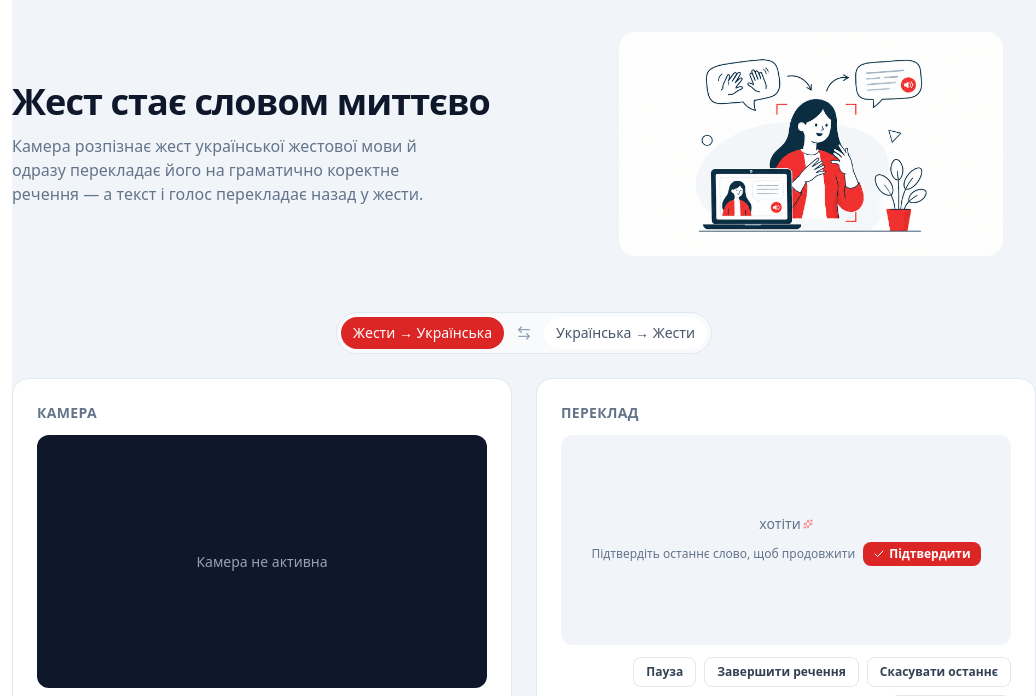
Test: TranslatorView › a confirmed word with real ranked alternatives shows a correction popover, and picking one replaces the wrong saved word
Click the button with aria-label "Виправити слово «хотіти»". click: (786, 524)
box: [757,514,815,534]
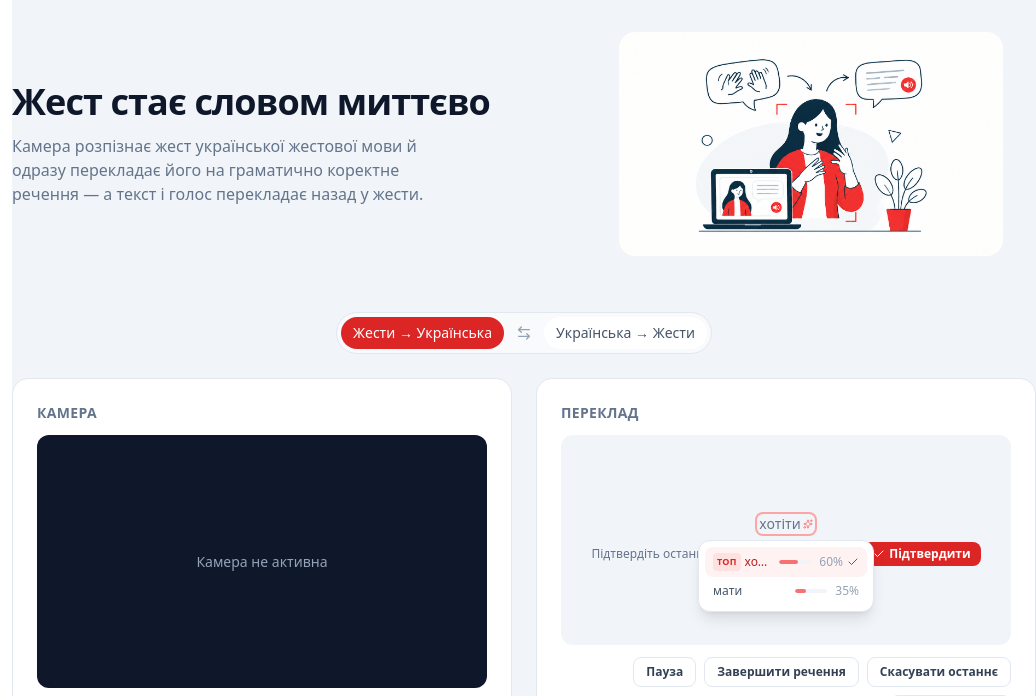
Click the option "мати 35%". click: (786, 591)
box: [705,577,867,605]
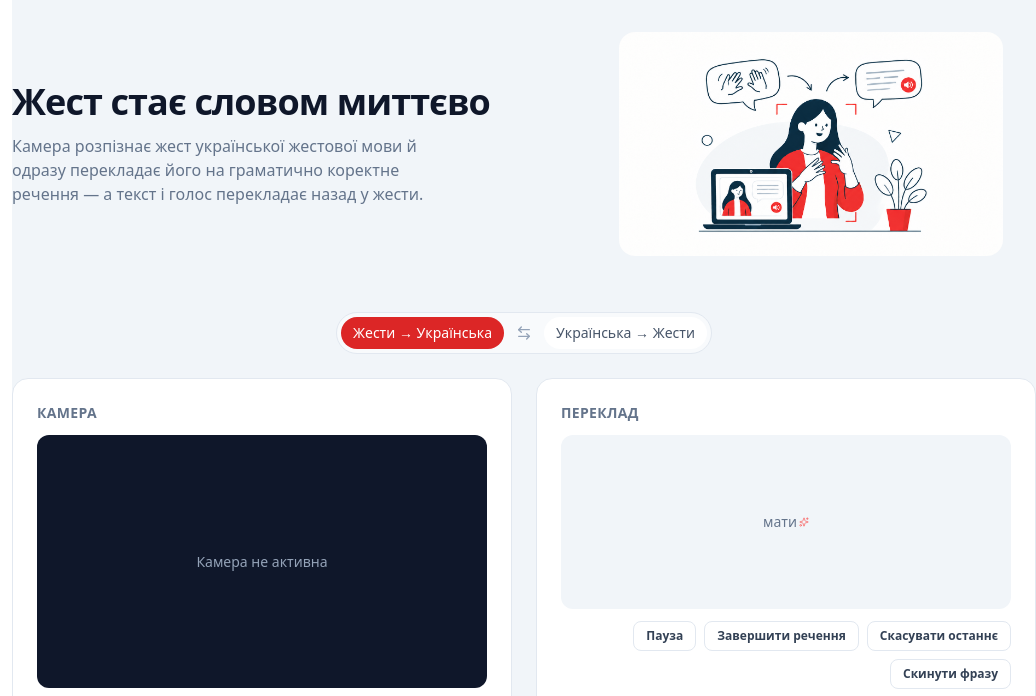
Check: the button with aria-label "Виправити слово «мати»" is shown, box [761,512,811,532]
Check: the option is gone
